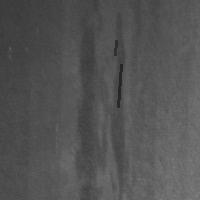inclusion: (75, 10, 126, 198), (116, 62, 123, 109), (113, 38, 118, 57)
